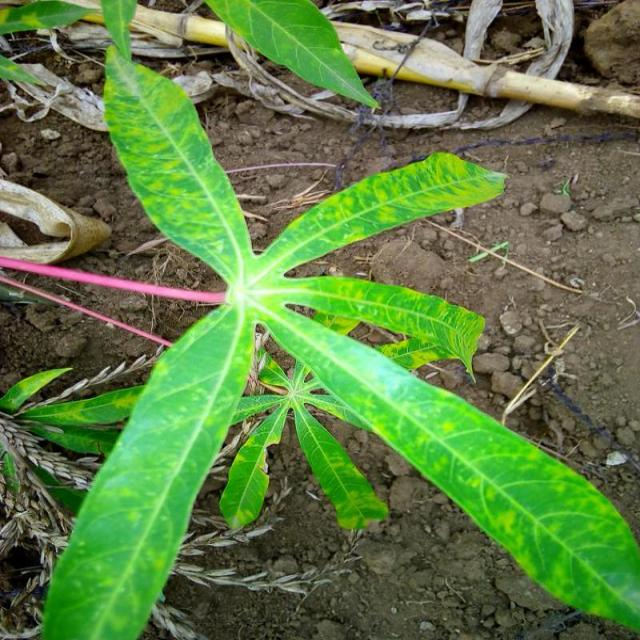cassava leaf: (13, 18, 639, 637)
